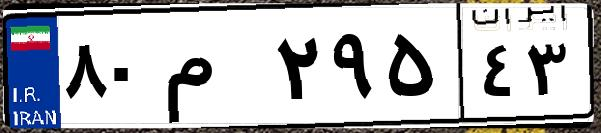0: (110, 28, 158, 98)
2: (270, 28, 330, 110)
3: (525, 38, 570, 115)
4: (475, 38, 525, 113)
5: (385, 28, 445, 110)
8: (57, 26, 110, 100)
9: (330, 28, 385, 110)
م: (158, 20, 270, 120)
